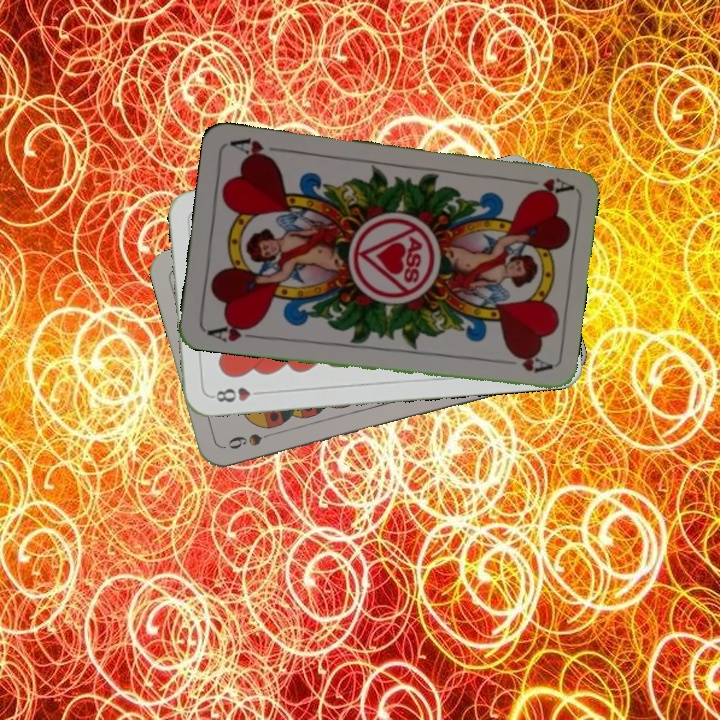H8: (208, 383, 267, 405)
HA: (203, 317, 262, 345), (514, 173, 574, 199)
S9: (223, 429, 281, 452)
